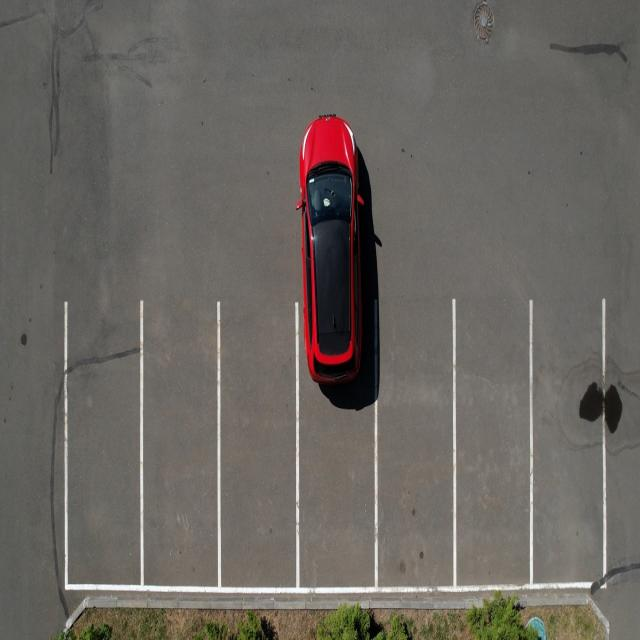space-empty: (296, 300, 382, 586), (450, 296, 530, 588), (223, 301, 304, 587), (61, 301, 139, 586), (376, 312, 457, 586), (138, 304, 215, 590), (532, 298, 608, 584)
